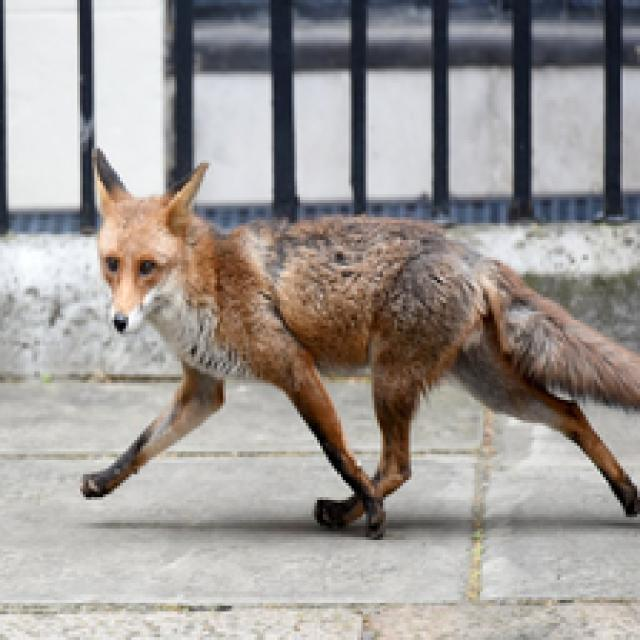fox: (56, 137, 640, 519)
